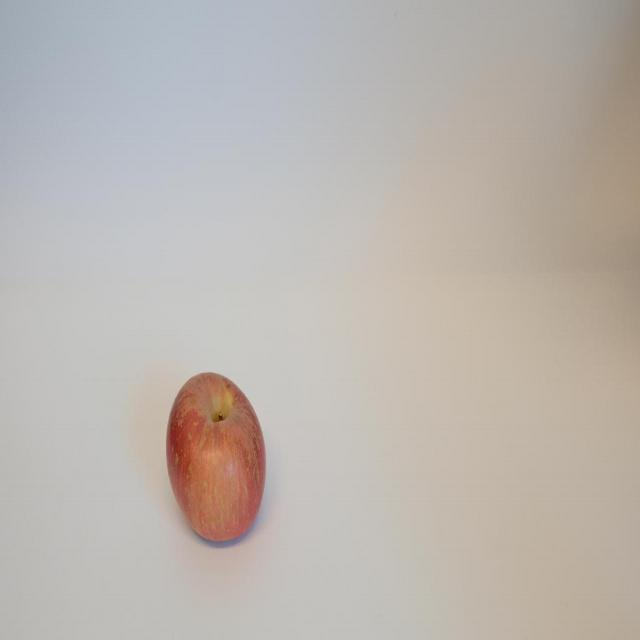apple: (168, 366, 267, 543)
